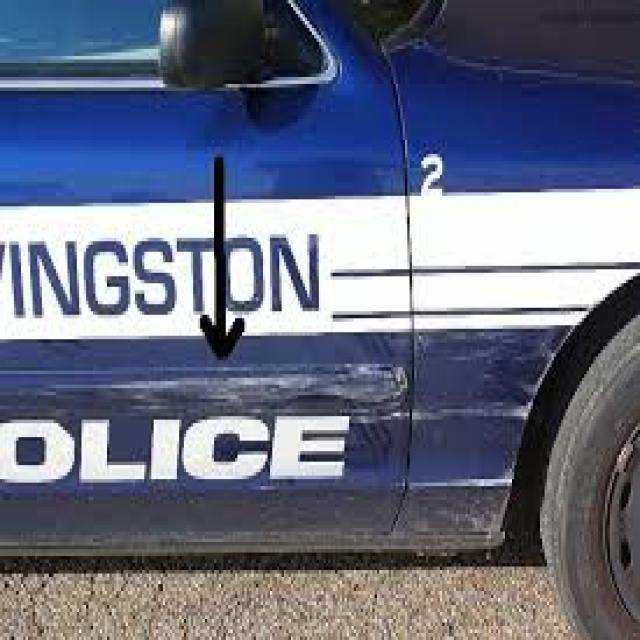minor: (37, 366, 418, 485)
